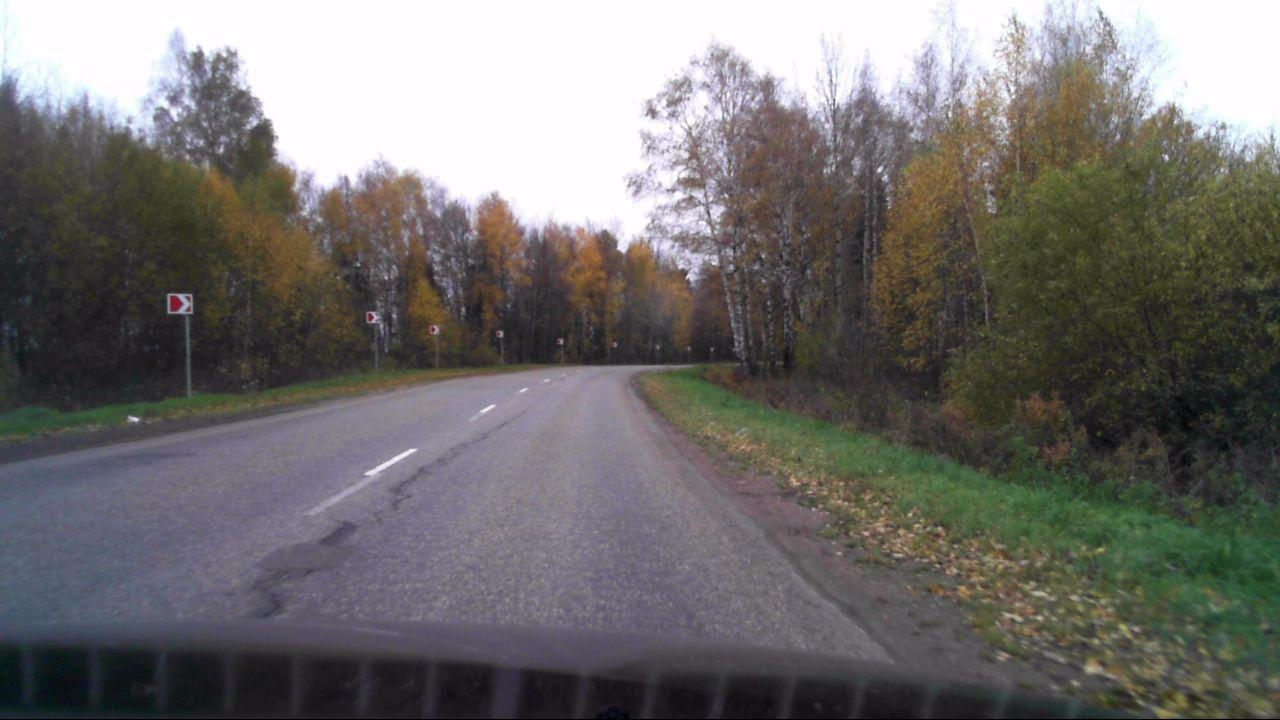road_sign: (167, 293, 194, 315), (366, 312, 380, 324), (429, 325, 440, 335)
